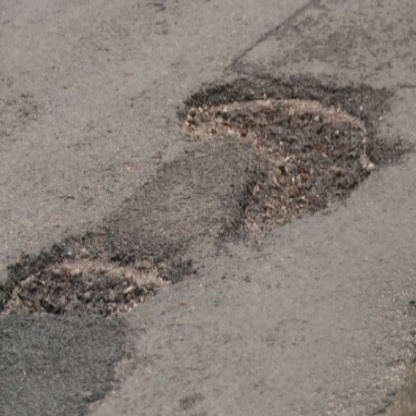pothole: (161, 62, 407, 237), (1, 203, 203, 342)
